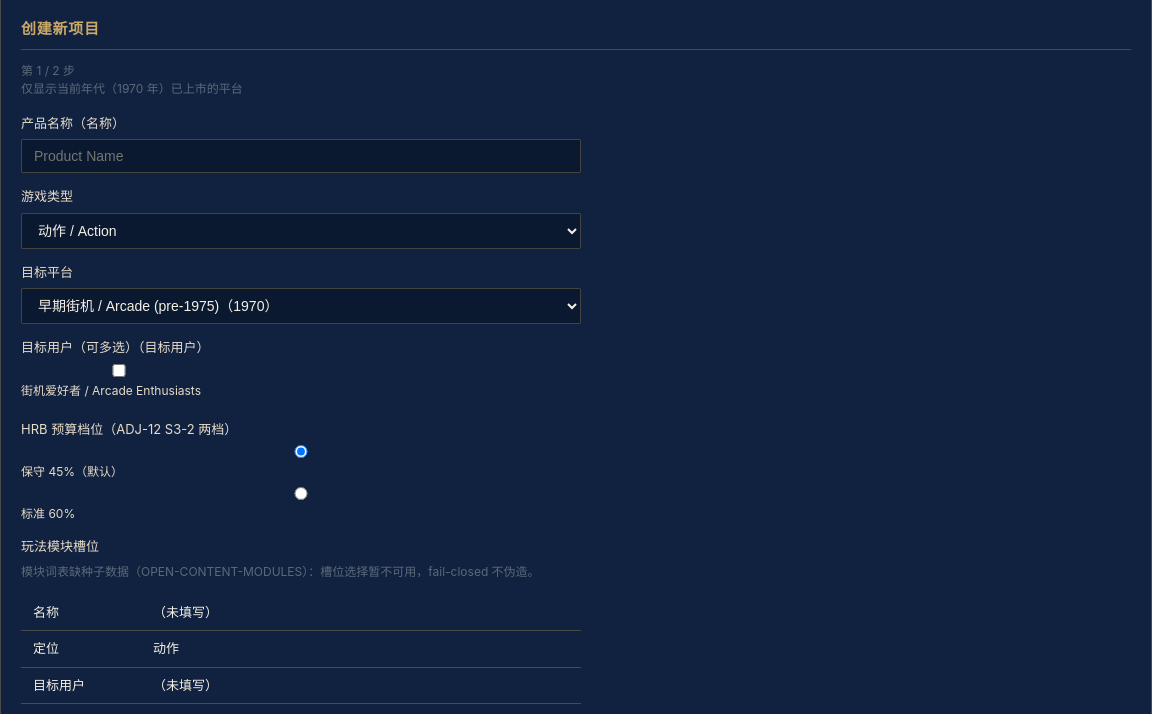
P-03/P-04 立项两步向导 › A-6：P-04 Budget_cap 双写联动 + 确认立项成功（HRB 0.45）
Later steps or results of the test are not shown.
Expected: the text with test id "wizard-step" shows "1", [21,62,75,78]
Type "Star Quest" into the field with test id "product-name" at (301, 156), box [21,139,581,173]
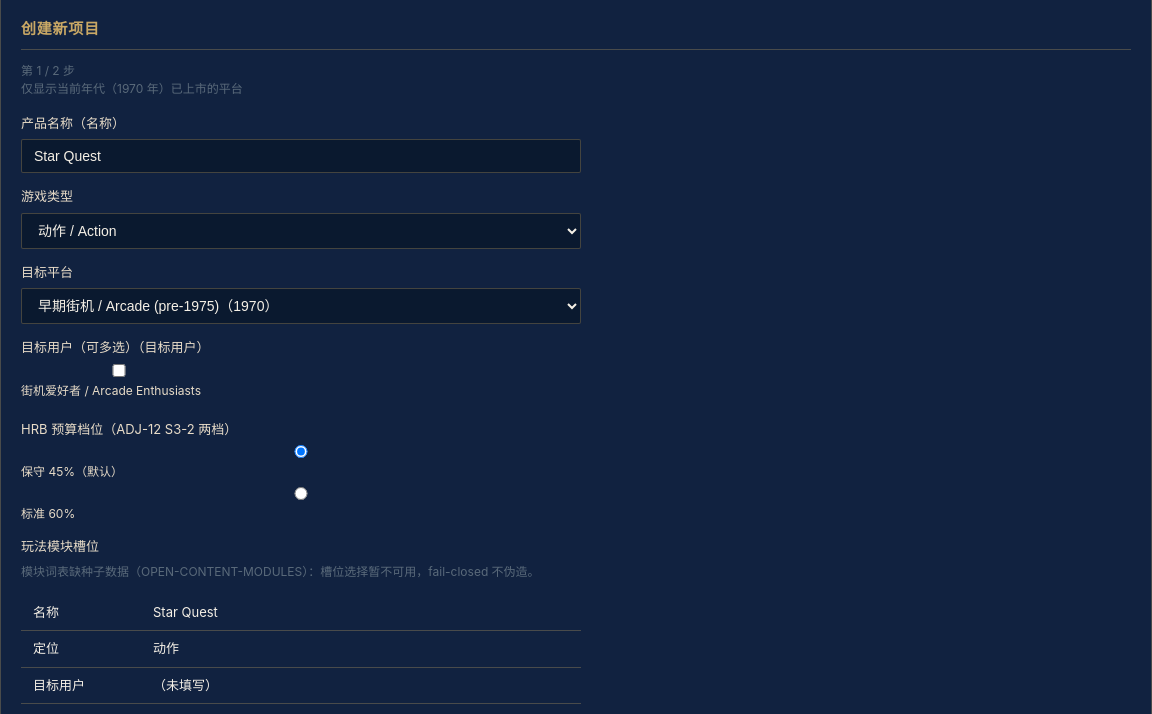
Click the checkbox labelled "街机爱好者 / Arcade Enthusiasts" at (119, 370), box [21,364,217,376]
(page scrolled)
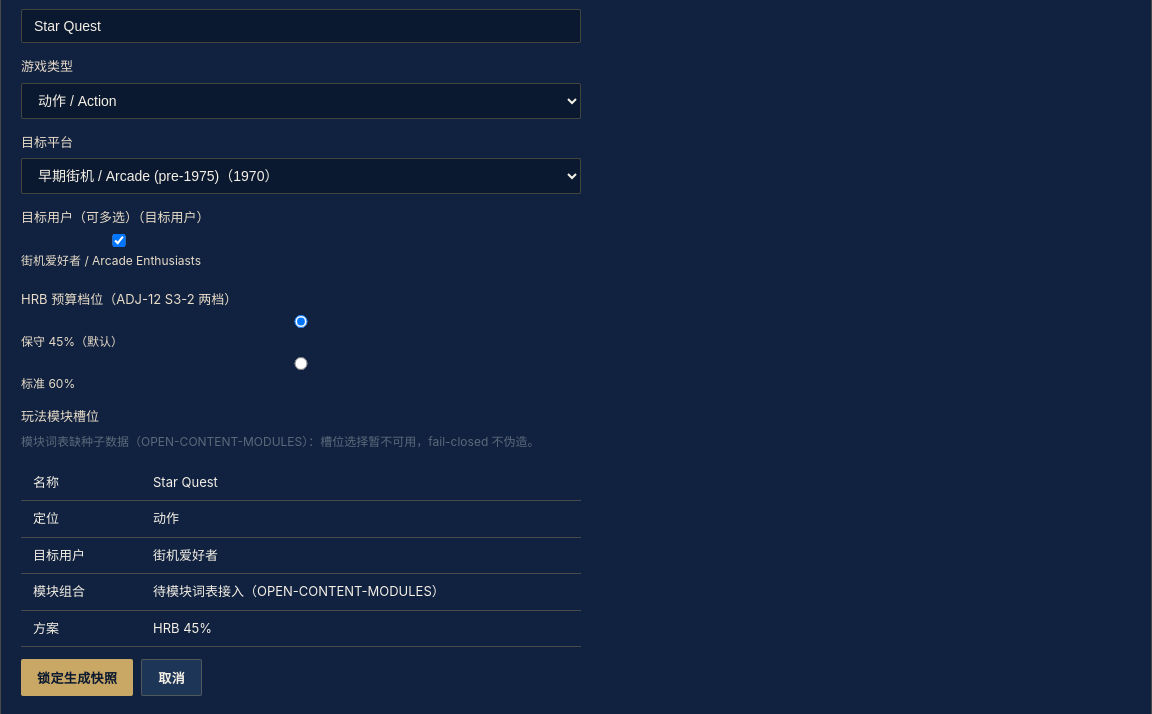
Click the button with test id "lock-snapshot" at (77, 678), box [21,659,133,696]
(page scrolled)
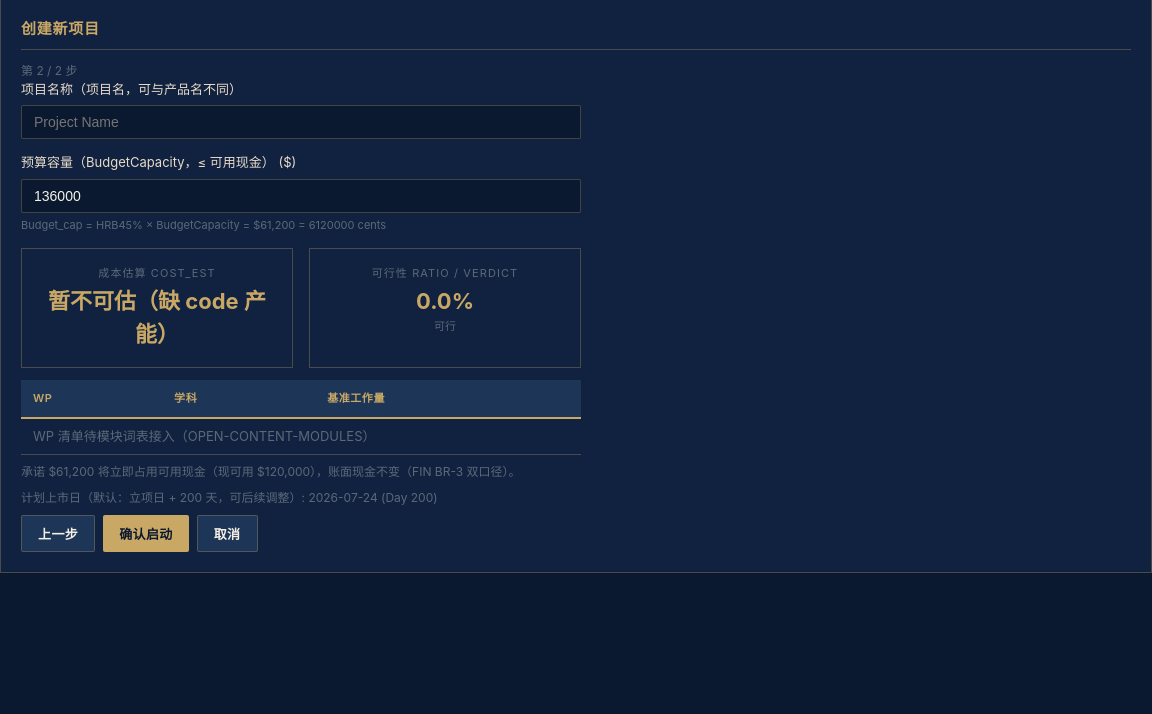
Expected: the text with test id "wizard-step" shows "2", [21,62,78,78]
Replace the text in the number field with test id "budget-capacity" with "20000" at (301, 196), box [21,178,581,212]
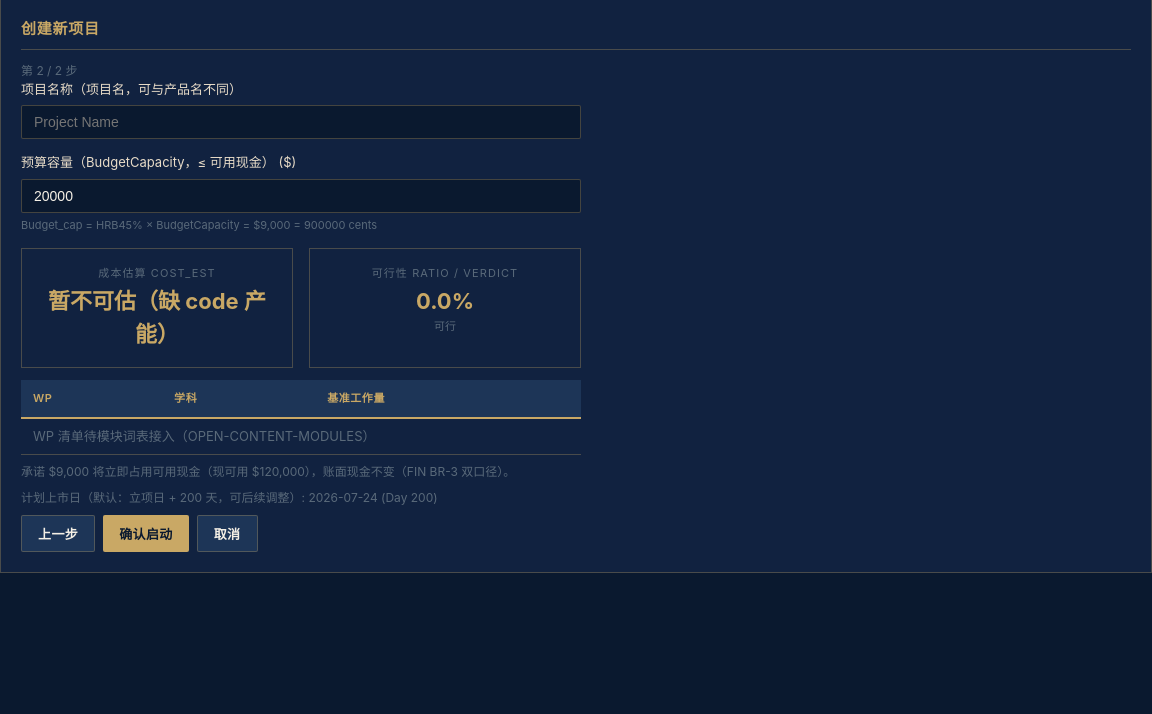
Expected: the text with test id "budget-cap" shows "$9,000", [21,218,377,232]
Expected: the text with test id "budget-cap" shows "900000", [21,218,377,232]
